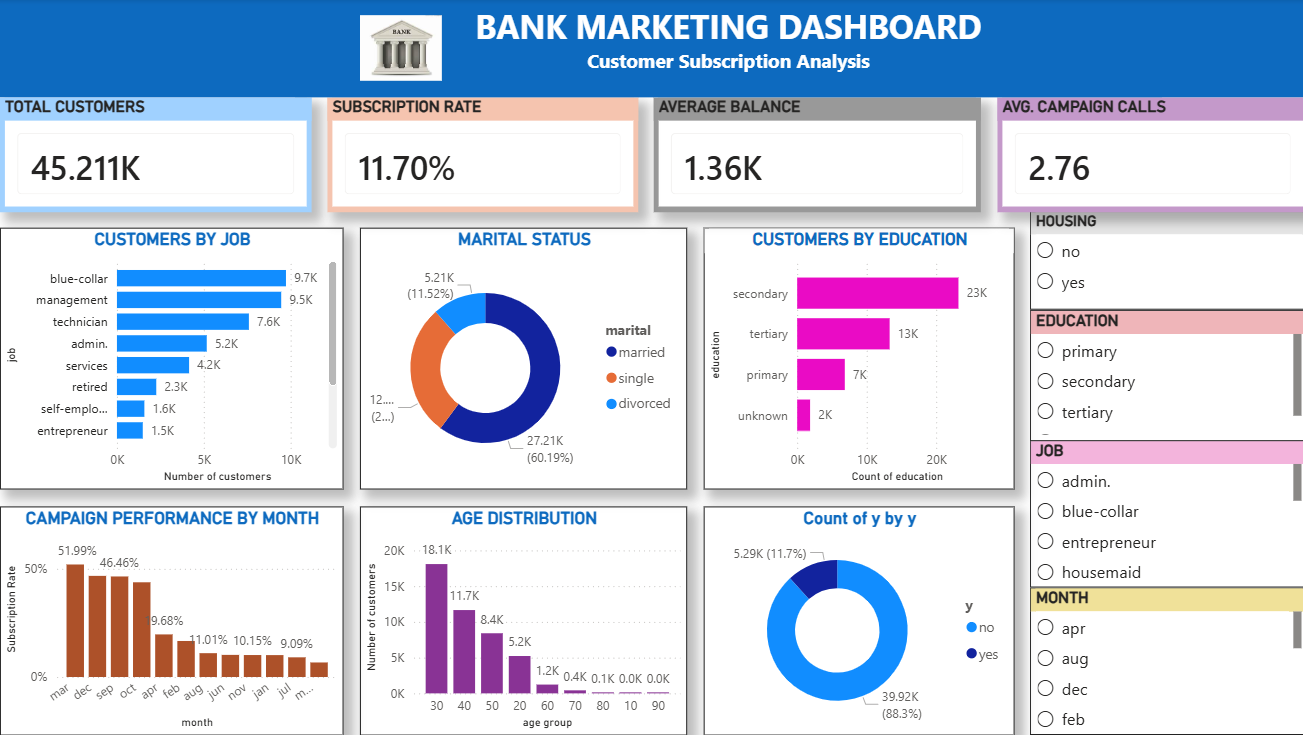

Layout of this report page (visuals, bound fields, positions):
{"tool":"powerbi","page":{"name":"Page 1","canvas":[1280,720],"ordinal":0},"visuals":[{"type":"cardVisual","title":"TOTAL CUSTOMERS","fields":{"Data":["CountNonNull(bank-full.age)"]},"box":[0,96,305,112],"z":0},{"type":"clusteredBarChart","title":"CUSTOMERS BY JOB","fields":{"Category":["bank-full.job"],"Y":["CountNonNull(bank-full.job)"]},"box":[0,224,336,256],"z":2000},{"type":"clusteredColumnChart","title":"AGE DISTRIBUTION","fields":{"Category":["bank-full.age (bins)"],"Y":["CountNonNull(bank-full.age)"]},"box":[352,496,320,224],"z":3000},{"type":"donutChart","title":"MARITAL STATUS","fields":{"Category":["bank-full.marital"],"Y":["CountNonNull(bank-full.marital)"]},"box":[352,224,320,256],"z":4000},{"type":"listSlicer","title":"JOB","fields":{"Values":["bank-full.job"]},"box":[1008,432,272,144],"z":5000},{"type":"listSlicer","title":"EDUCATION","fields":{"Values":["bank-full.education"]},"box":[1008,304,272,128],"z":6000},{"type":"listSlicer","title":"HOUSING","fields":{"Values":["bank-full.housing"]},"box":[1008,208,272,96],"z":7000},{"type":"clusteredBarChart","title":"CUSTOMERS BY EDUCATION","fields":{"Category":["bank-full.education"],"Y":["CountNonNull(bank-full.education)"]},"box":[688,224,304,256],"z":8000},{"type":"cardVisual","title":"AVERAGE BALANCE","fields":{"Data":["Avg(bank-full.balance)"]},"box":[640,96,320,112],"z":9000},{"type":"cardVisual","title":"AVG. CAMPAIGN CALLS","fields":{"Data":["Avg(bank-full.campaign)"]},"box":[976,96,304,112],"z":10000},{"type":"clusteredColumnChart","title":"CAMPAIGN PERFORMANCE BY MONTH","fields":{"Y":["bank-full.Subscription Rate"],"Category":["bank-full.month"]},"box":[0,496,336,224],"z":11000},{"type":"cardVisual","title":"SUBSCRIPTION RATE","fields":{"Data":["bank-full.Subscription Rate"]},"box":[320,96,304,112],"z":12000},{"type":"listSlicer","title":"MONTH","fields":{"Values":["bank-full.month"]},"box":[1008,576,272,144],"z":12001},{"type":"shape","box":[0,0,1280,96],"z":12002},{"type":"textbox","box":[288,0,848,96],"z":12003},{"type":"image","box":[352,16,80,64],"z":12004},{"type":"donutChart","title":"Count of y by y","fields":{"Category":["bank-full.y"],"Y":["CountNonNull(bank-full.y)"]},"box":[688,496,304,224],"z":12005}]}

Visuals, with their boxes in screenshot pixels (x1, y1, x2, y2), scaled from the page's 1280x720 canvas onto the 1303x735 screenshot:
"TOTAL CUSTOMERS" cardVisual: BBox(0, 98, 310, 212)
"CUSTOMERS BY JOB" clusteredBarChart: BBox(0, 229, 342, 490)
"AGE DISTRIBUTION" clusteredColumnChart: BBox(358, 506, 684, 734)
"MARITAL STATUS" donutChart: BBox(358, 229, 684, 490)
"JOB" listSlicer: BBox(1026, 441, 1302, 588)
"EDUCATION" listSlicer: BBox(1026, 310, 1302, 441)
"HOUSING" listSlicer: BBox(1026, 212, 1302, 310)
"CUSTOMERS BY EDUCATION" clusteredBarChart: BBox(700, 229, 1010, 490)
"AVERAGE BALANCE" cardVisual: BBox(652, 98, 977, 212)
"AVG. CAMPAIGN CALLS" cardVisual: BBox(994, 98, 1302, 212)
"CAMPAIGN PERFORMANCE BY MONTH" clusteredColumnChart: BBox(0, 506, 342, 734)
"SUBSCRIPTION RATE" cardVisual: BBox(326, 98, 635, 212)
"MONTH" listSlicer: BBox(1026, 588, 1302, 734)
shape: BBox(0, 0, 1302, 98)
textbox: BBox(293, 0, 1156, 98)
image: BBox(358, 16, 440, 82)
"Count of y by y" donutChart: BBox(700, 506, 1010, 734)
